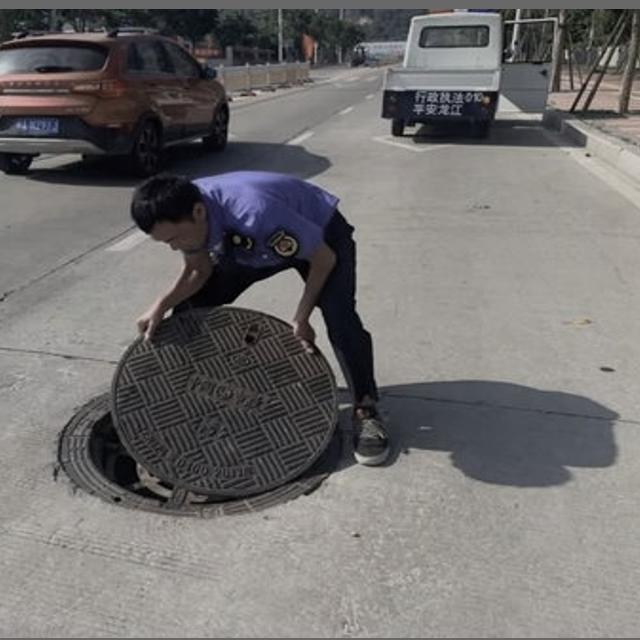uncovered: (46, 299, 352, 522)
